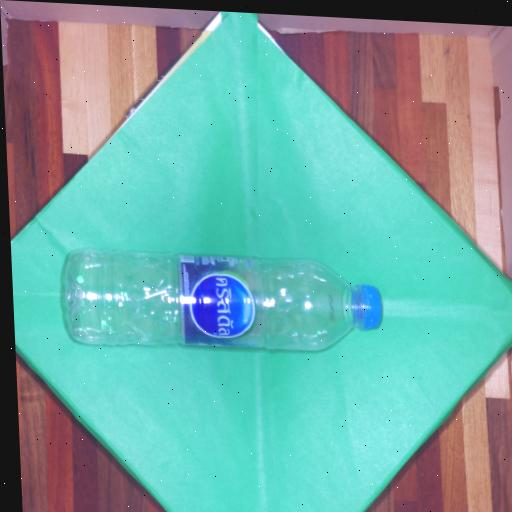bottle: (49, 235, 395, 374)
